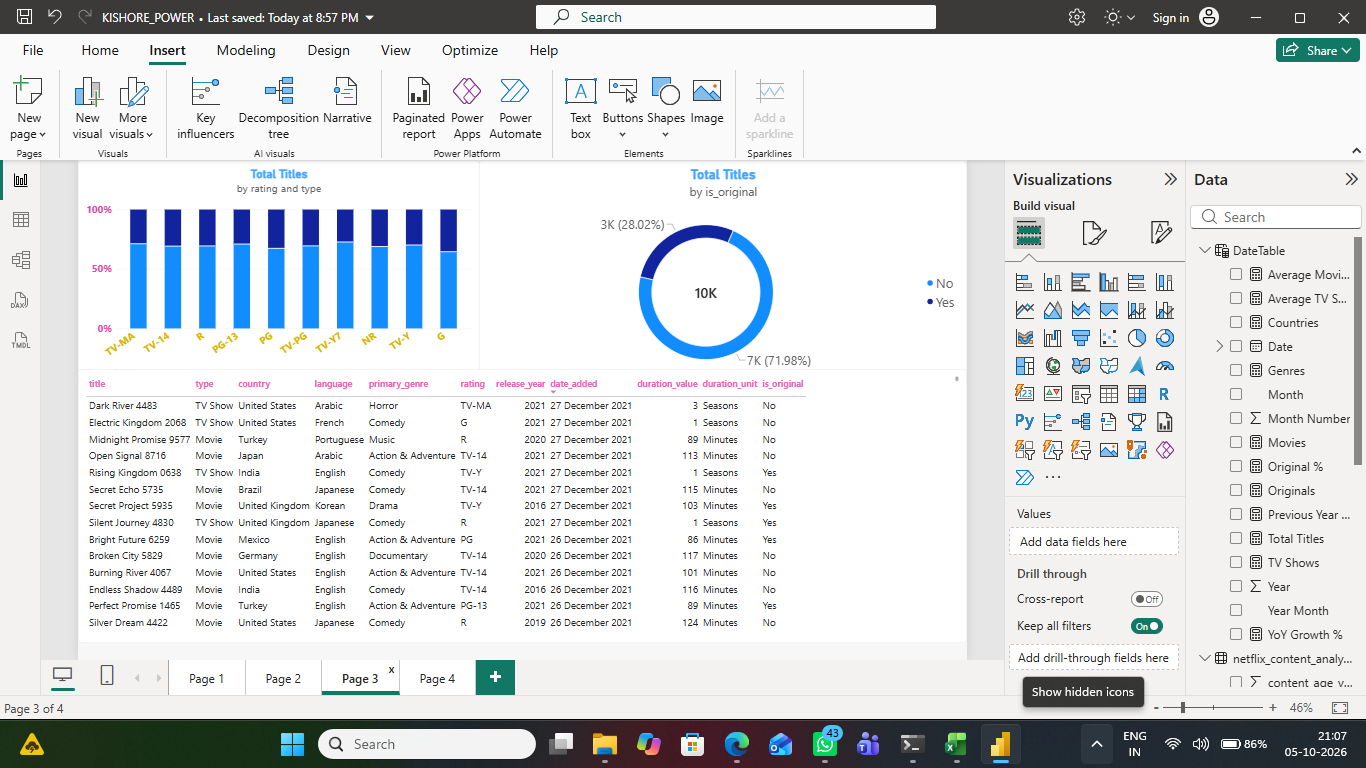

Layout of this report page (visuals, bound fields, positions):
{"tool":"powerbi","page":{"name":"Page 3","canvas":[1920,1080],"ordinal":2},"visuals":[{"type":"hundredPercentStackedColumnChart","fields":{"Category":["netflix_content_analytics.rating"],"Y":["DateTable.Total Titles"],"Series":["netflix_content_analytics.type"]},"box":[0,0,866.8,488.8],"z":0},{"type":"donutChart","fields":{"Category":["netflix_content_analytics.is_original"],"Y":["DateTable.Total Titles"]},"box":[866.8,0,1053.2,488.8],"z":1},{"type":"tableEx","fields":{"Values":["netflix_content_analytics.title","netflix_content_analytics.type","netflix_content_analytics.country","netflix_content_analytics.language","netflix_content_analytics.primary_genre","netflix_content_analytics.rating","netflix_content_analytics.release_year","netflix_content_analytics.date_added","netflix_content_analytics.duration_value","netflix_content_analytics.duration_unit","netflix_content_analytics.is_original"]},"box":[0,452.5,1920,592.1],"z":2}]}

Visuals, with their boxes on the page's 1920x1080 design canvas (x1, y1, x2, y2). These are canvas units, not pixel positions in the 1366x768 screenshot, which may show the page scaled, cropped or inside an application window:
hundredPercentStackedColumnChart - netflix_content_analytics.rating x DateTable.Total Titles: box=[0, 0, 867, 489]
donutChart - netflix_content_analytics.is_original x DateTable.Total Titles: box=[867, 0, 1920, 489]
tableEx - netflix_content_analytics.title x netflix_content_analytics.type: box=[0, 452, 1920, 1045]
